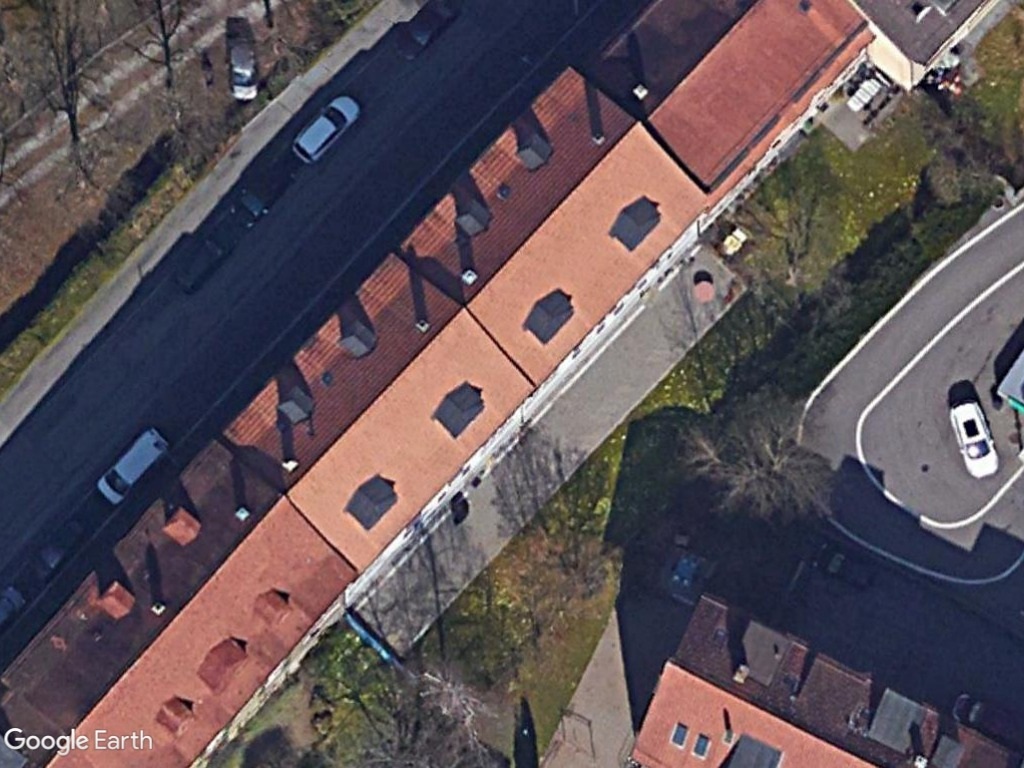car: (290, 90, 363, 165), (946, 396, 1000, 481)
van: (95, 424, 170, 507)
